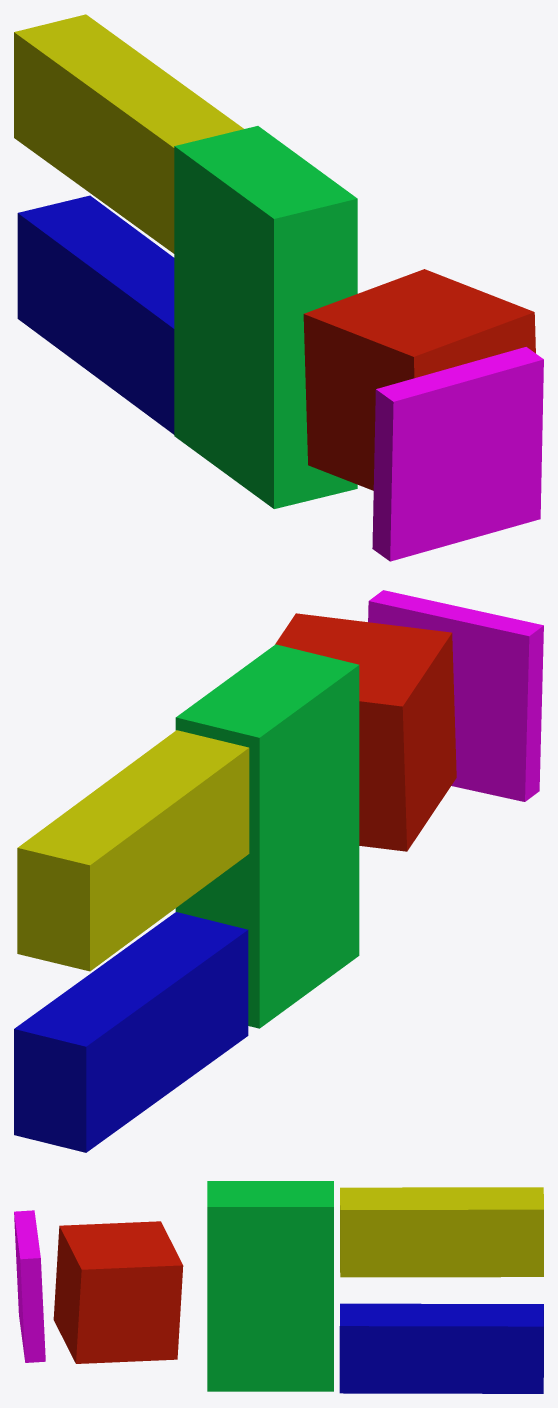
The picture shows the model from 3 angles, top to bottom: view 1: azimuth 30°, elevation 25°; view 2: azimuth 150°, elevation 25°; view 3: azimuth 270°, elevation 25°; orthographic projection. The views are drawn at different scales.
Parts seen in each view (by area): view 1: torso, hat, right_leg, left_leg, head; view 2: torso, left_leg, right_leg, head, hat; view 3: torso, right_leg, left_leg, head, hat.
Part boxes in pixels (<box>): torso: <box>174,126,357,508</box>; hat: <box>372,347,543,561</box>; right_leg: <box>14,14,243,253</box>; left_leg: <box>17,195,174,434</box>; head: <box>303,269,535,490</box>; torso: <box>175,644,359,1028</box>; left_leg: <box>14,912,248,1152</box>; right_leg: <box>17,730,249,971</box>; head: <box>275,613,456,851</box>; hat: <box>368,590,543,801</box>; torso: <box>207,1181,333,1391</box>; right_leg: <box>340,1187,543,1277</box>; left_leg: <box>339,1303,543,1393</box>; head: <box>53,1221,183,1363</box>; hat: <box>14,1210,45,1362</box>.
Bounding box in the file's own units: 1.41 × 2.04 × 5.2.
